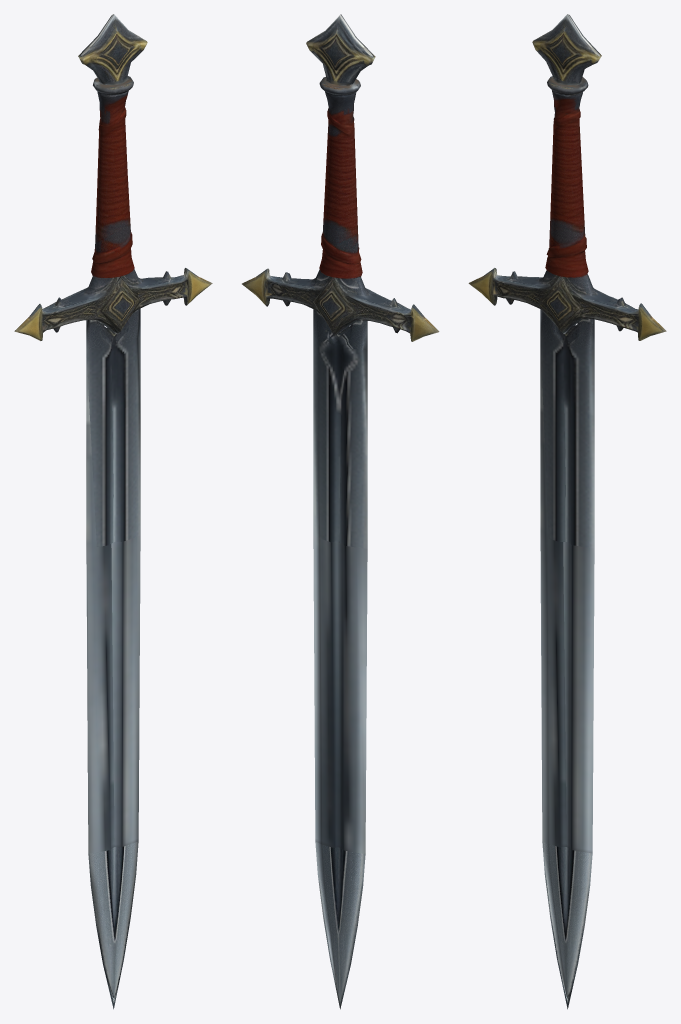
Rendered from short_sword.glb.
3 views of the same model, side by side, from view 1: azimuth 30°, elevation 25°; view 2: azimuth 150°, elevation 25°; view 3: azimuth 330°, elevation 25° (orthographic).
Bounding box in the file's own units: 0.1978 × 0.9517 × 0.0395.
Materials: 1 (1 with a texture image).
